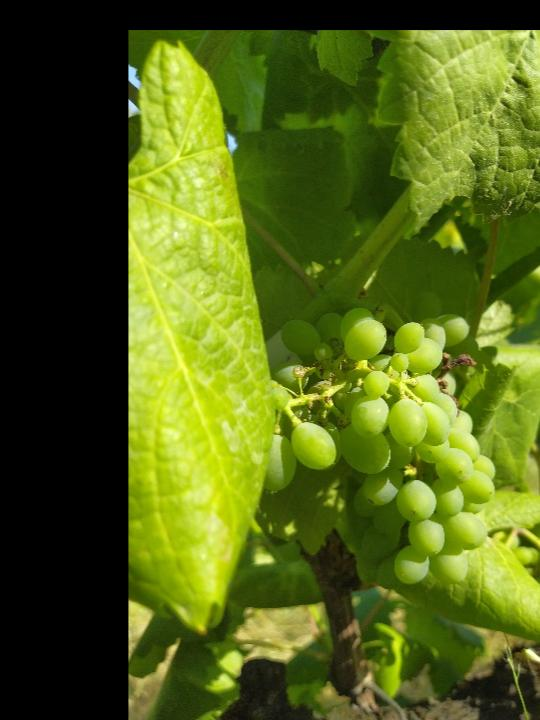grape: (265, 306, 494, 587), (514, 531, 540, 698)
